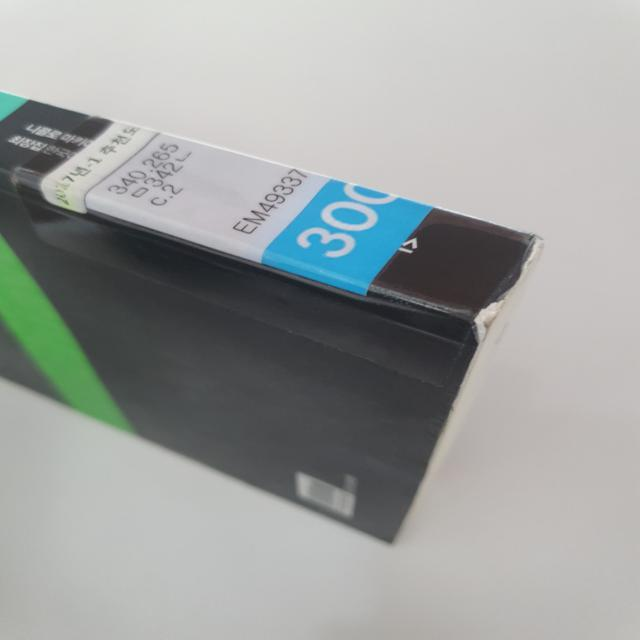Wornout: (465, 232, 551, 346)
